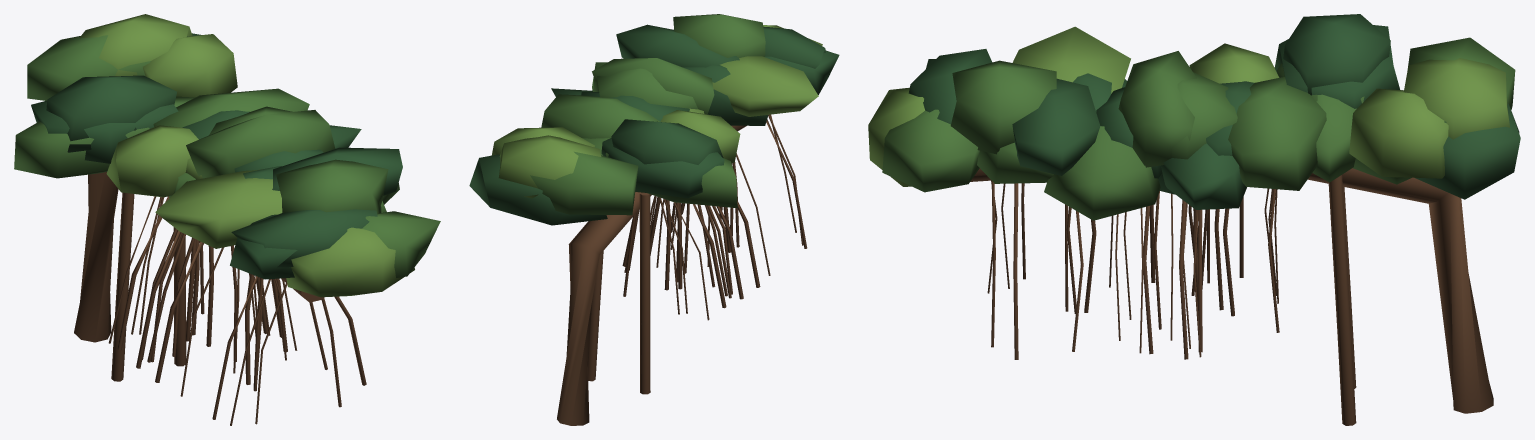
The model's file is OakBoughMIA.fbx.
3 renders of one model, left to right at view 1: azimuth 30°, elevation 25°; view 2: azimuth 150°, elevation 25°; view 3: azimuth 270°, elevation 25°, orthographic. The views are drawn at different scales.
Parts seen in each view (by area): view 1: OakBoughMIA; view 2: OakBoughMIA; view 3: OakBoughMIA.
Part boxes in pixels (x1,y1,x2,y2): OakBoughMIA: (14, 14, 440, 425); OakBoughMIA: (469, 14, 839, 425); OakBoughMIA: (868, 14, 1520, 425).
Size of the model in its own units: 3.77 by 3.99 by 6.56.
